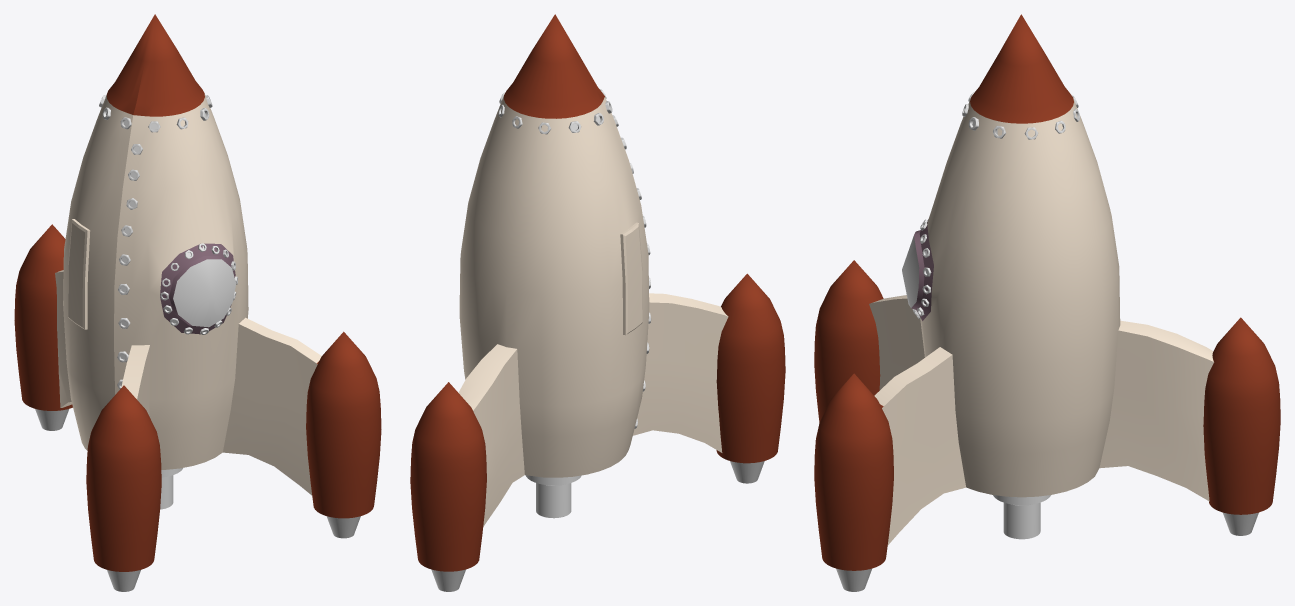
Rendered from Rocket.fbx.
The picture shows the model from 3 angles, left to right: view 1: azimuth 30°, elevation 25°; view 2: azimuth 150°, elevation 25°; view 3: azimuth 270°, elevation 25°; orthographic projection. The views are drawn at different scales.
Visible parts, largest first — view 1: rocket; view 2: rocket; view 3: rocket.
Boxes of the visible parts, x1,y1,x2,y2 form: rocket: [14, 14, 381, 591]; rocket: [410, 14, 785, 591]; rocket: [814, 14, 1280, 591].
Bounding box in the file's own units: 736 × 1205 × 986.
